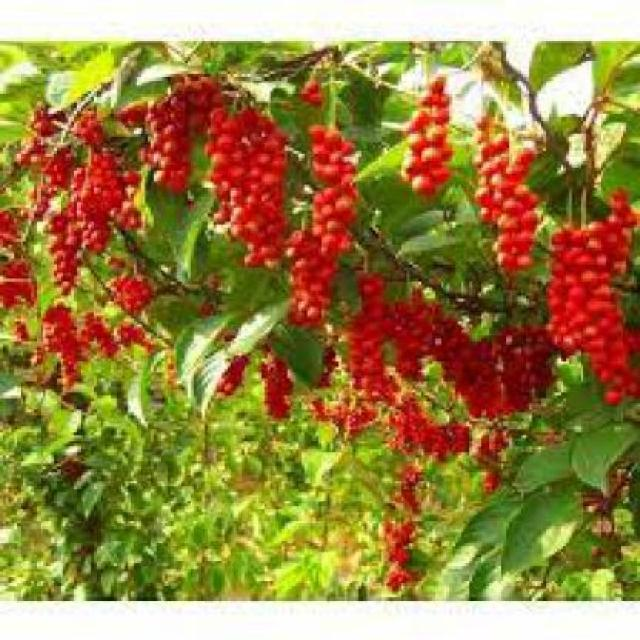RIPE: (543, 216, 626, 399), (31, 106, 117, 271), (203, 100, 277, 254), (305, 125, 349, 322), (128, 71, 194, 188), (479, 109, 530, 260), (399, 68, 450, 177), (351, 262, 388, 399), (40, 299, 88, 382), (402, 293, 449, 376), (256, 356, 285, 419)
